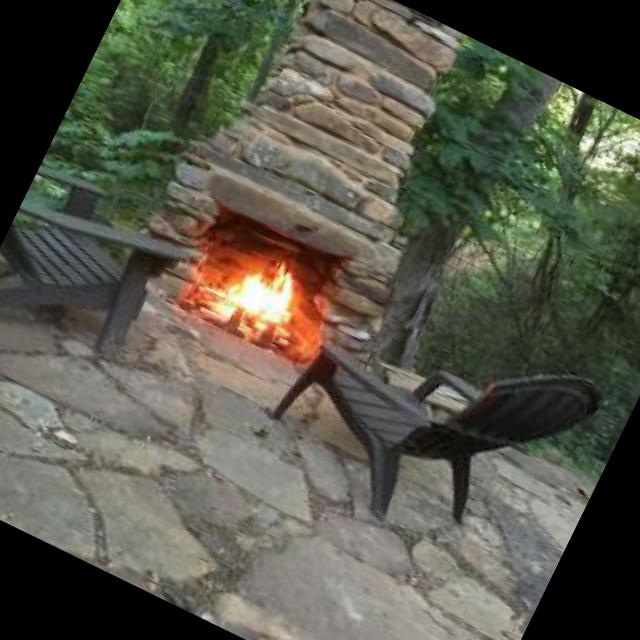fire: (194, 214, 341, 348)
